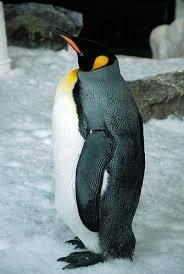king: (34, 20, 168, 274)
